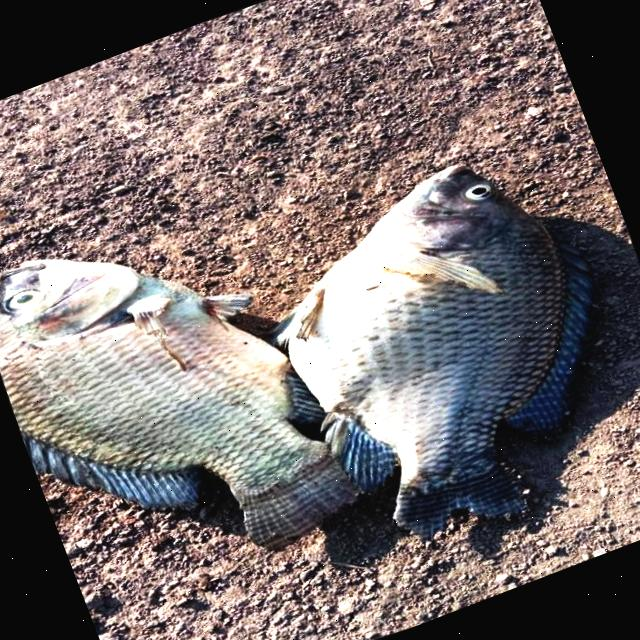Aeromonas Septicemia: (270, 163, 613, 540), (0, 259, 360, 559)
